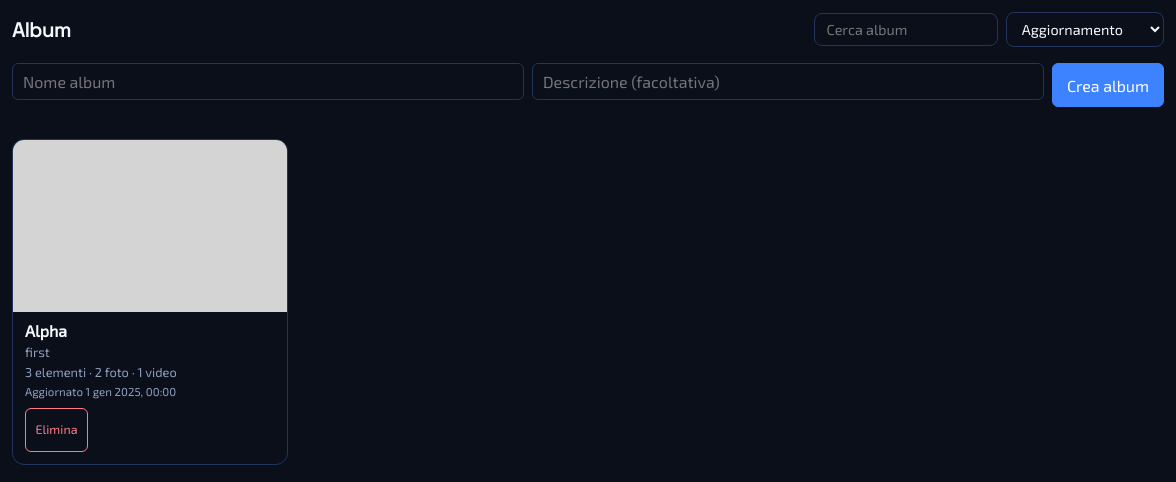
Test: AlbumsPage › deletes an album after confirmation
Click the button with test id "album-delete-btn".
click(57, 430)  # box 25,408 -> 88,452
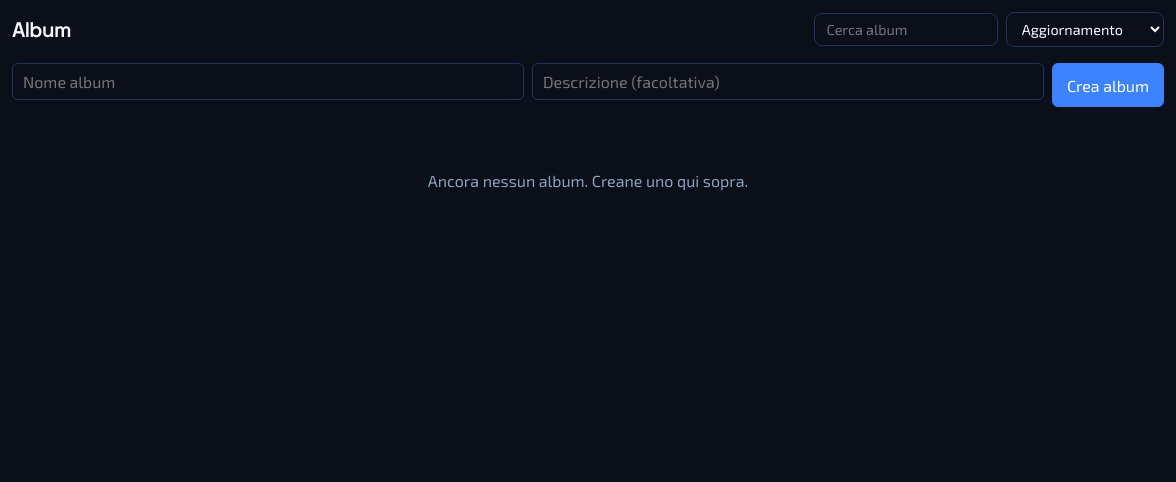
Now the text "Ancora nessun album. Creane uno qui sopra." is shown, box 428,171 -> 748,190
